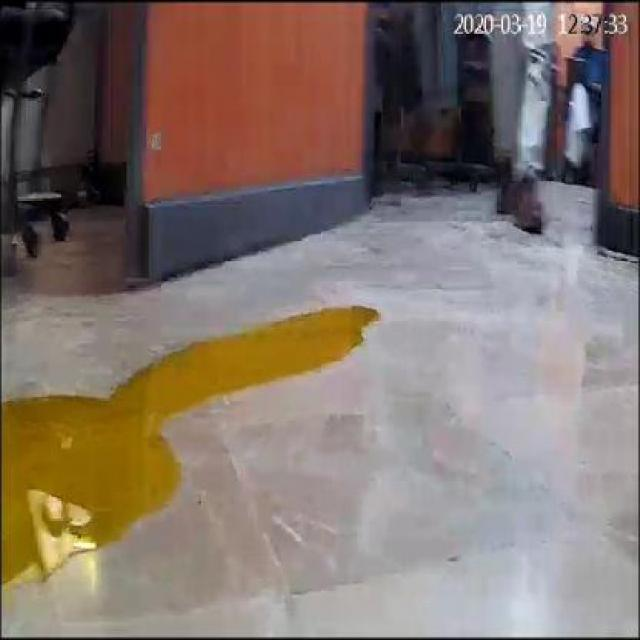spill: (0, 304, 377, 600)
